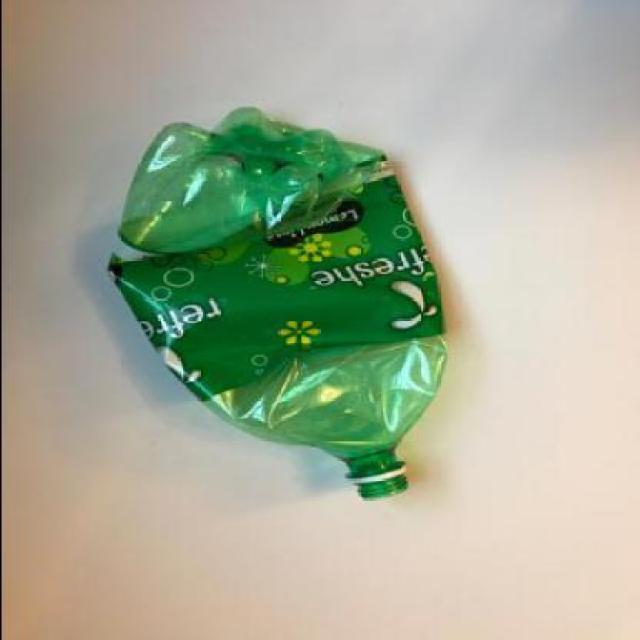PLASTIC: (102, 108, 450, 501), (104, 156, 442, 402)
